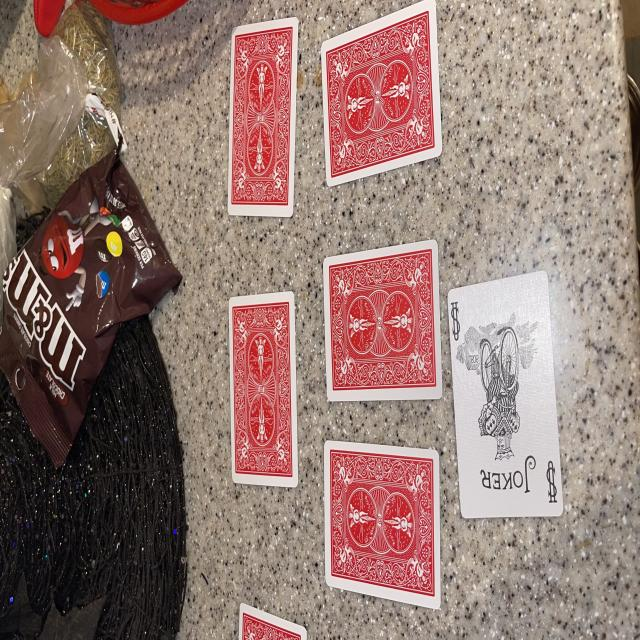Joker: (448, 271, 562, 518)
card back: (321, 2, 441, 187), (324, 440, 441, 609), (324, 240, 442, 400), (228, 18, 298, 218), (229, 291, 298, 487), (239, 604, 308, 640)
